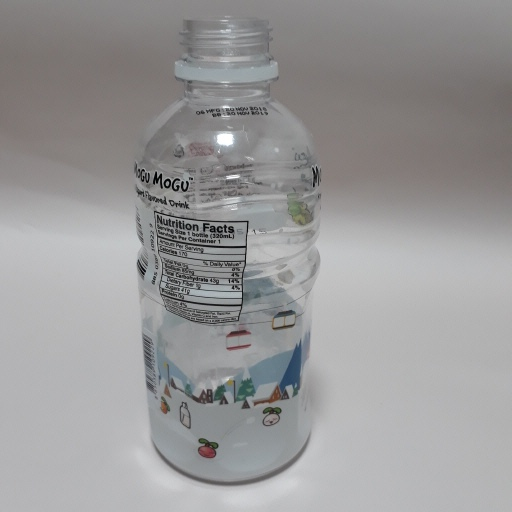Plastic_0: (132, 11, 326, 484)
